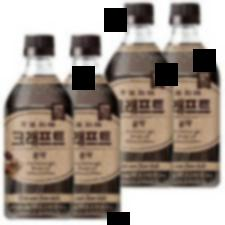georgiacraft_black: (101, 1, 173, 190), (4, 34, 73, 222)
